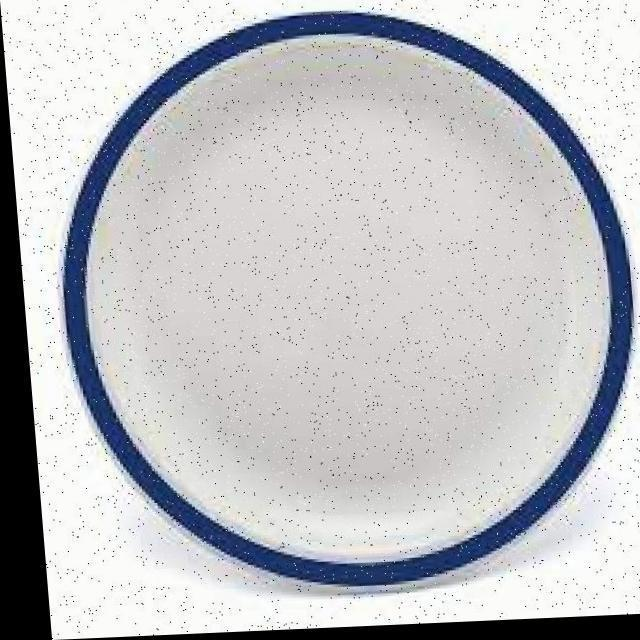plate: (24, 0, 640, 616)
